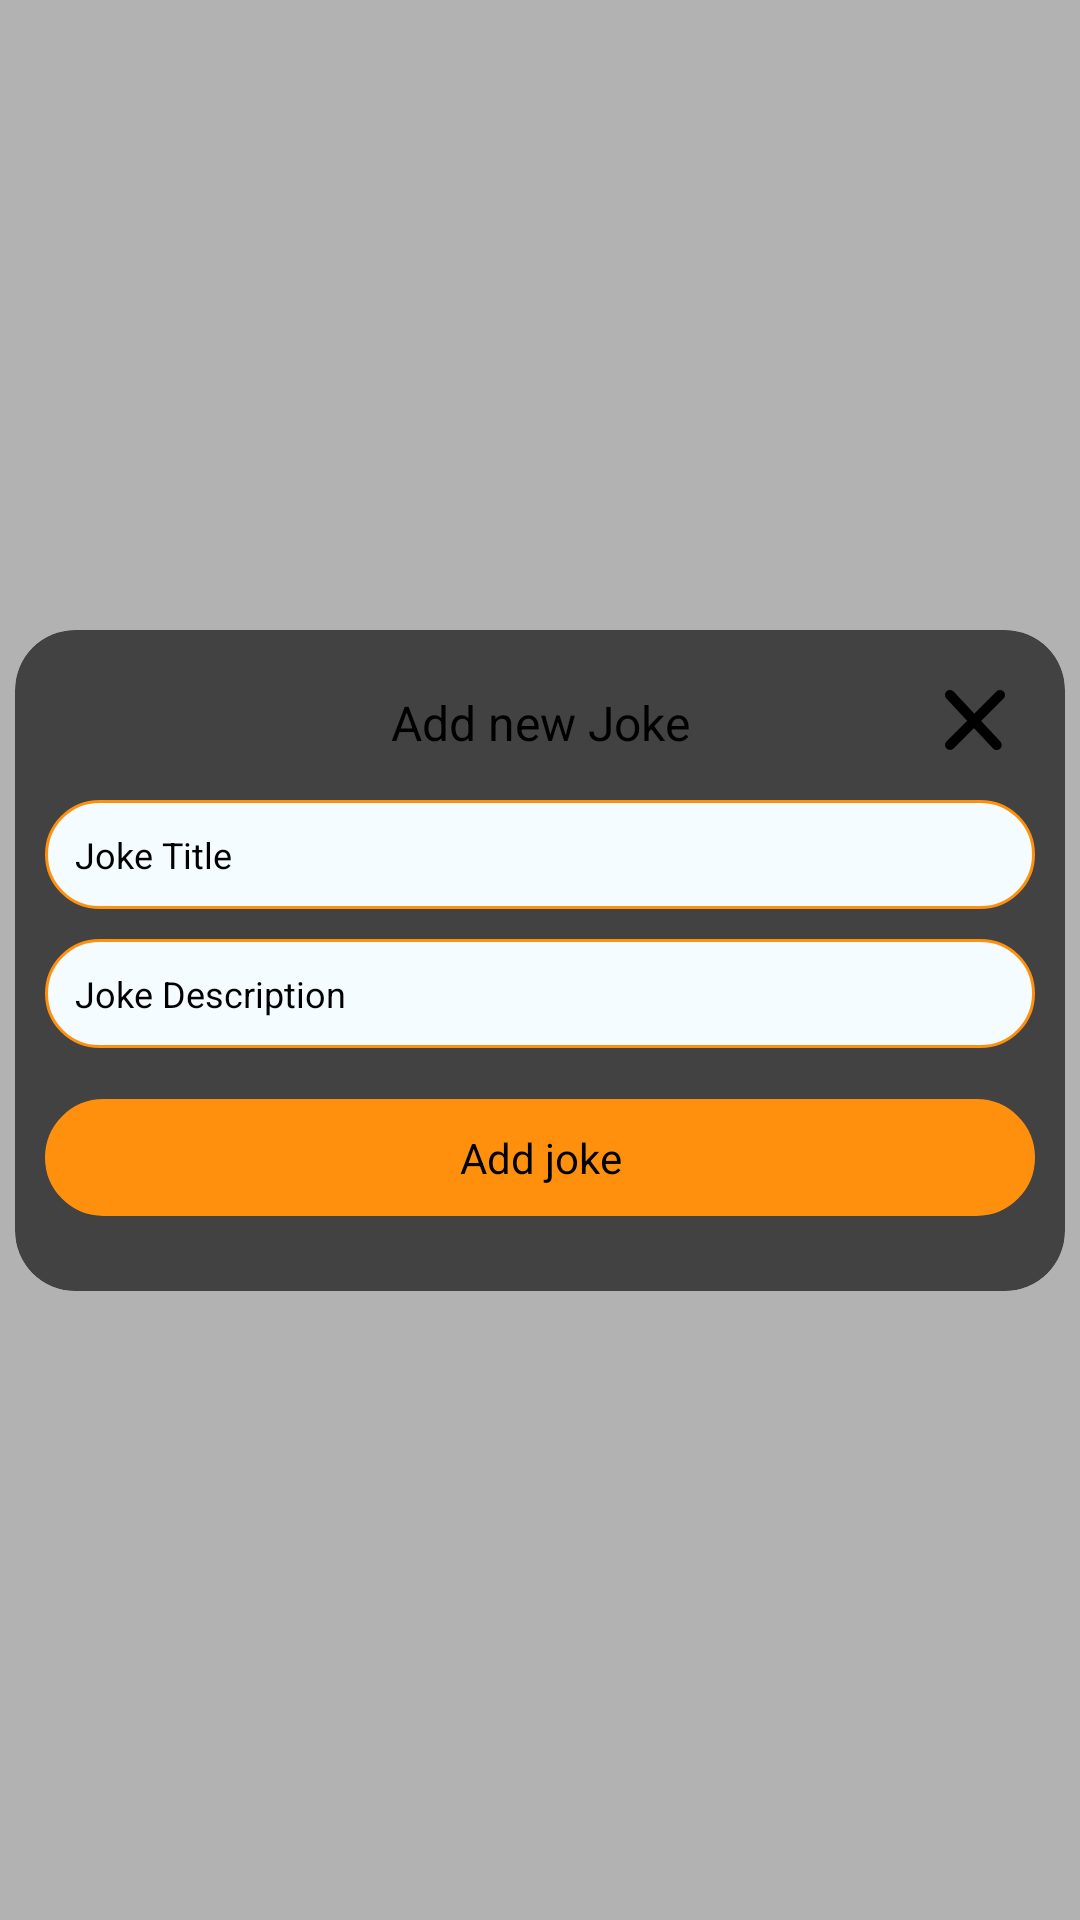

Icon click points for this 1080w x 1920h phone screenshot, format (x=x, y=y):
close: (x=975, y=720)
